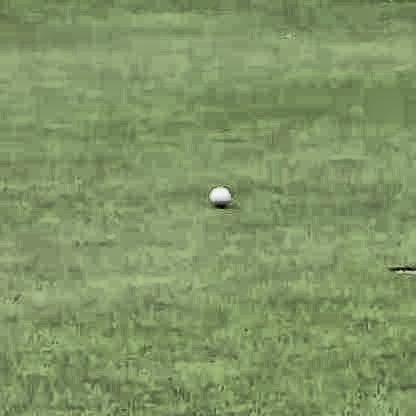golfball: (206, 182, 229, 205)
